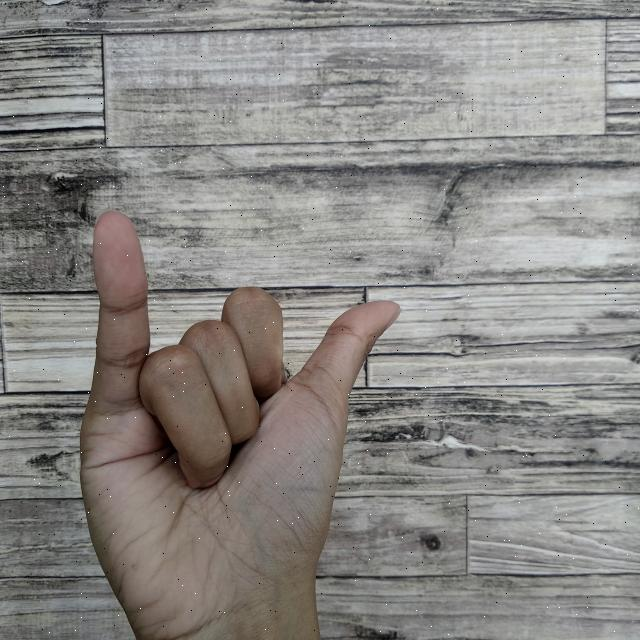Y: (76, 207, 408, 640)
